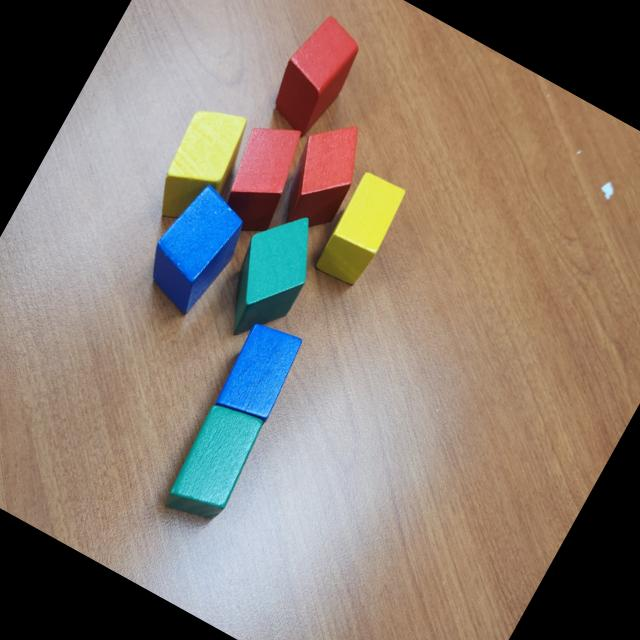blue: (132, 175, 258, 322), (210, 315, 308, 429)
green: (206, 196, 334, 352), (157, 393, 272, 532)
red: (259, 9, 371, 145), (267, 107, 379, 240), (205, 110, 317, 242)
yellow: (142, 95, 258, 235), (312, 170, 409, 292)
